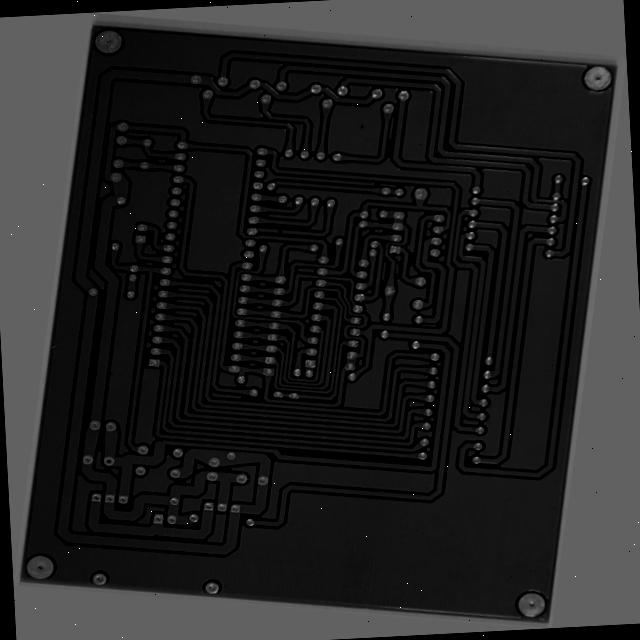spurious_copper: (356, 82, 371, 113), (437, 303, 462, 314), (360, 156, 385, 166), (379, 243, 389, 267), (394, 243, 405, 259)
